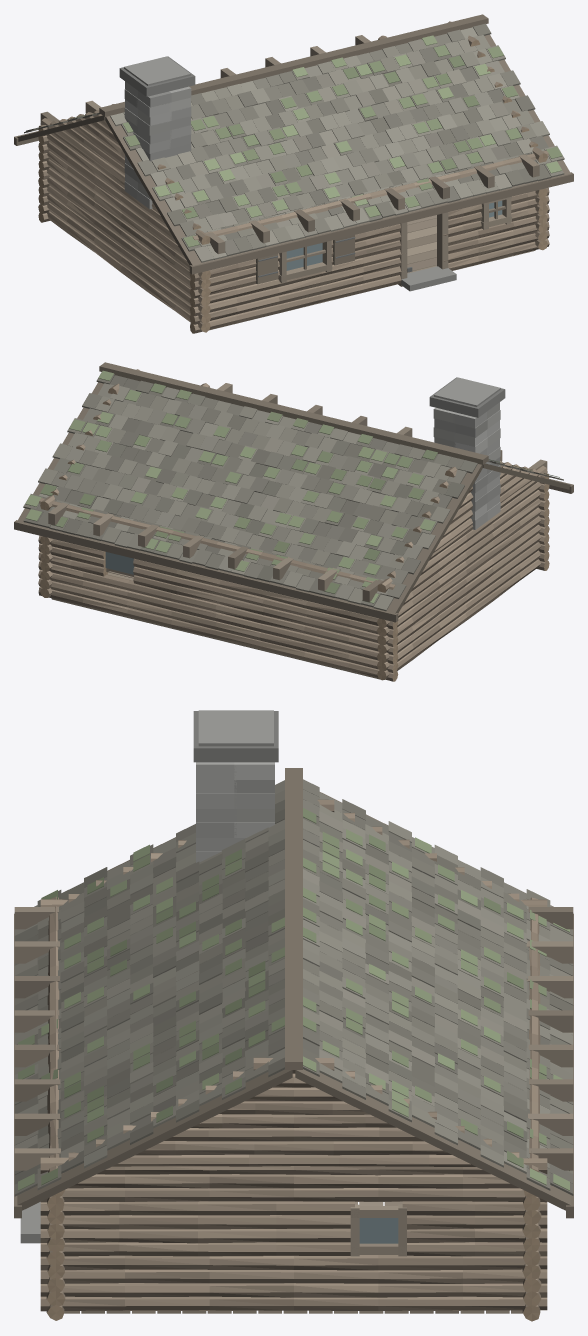
The model's file is nora_shell.glb.
The picture shows the model from 3 angles, top to bottom: view 1: azimuth 30°, elevation 25°; view 2: azimuth 150°, elevation 25°; view 3: azimuth 270°, elevation 25°; orthographic projection. The views are drawn at different scales.
Parts seen in each view (by area): view 1: Shingles, Logs, Planks, Moss, Stone, Endgrain, Glass; view 2: Shingles, Logs, Planks, Moss, Stone, Endgrain, Glass; view 3: Shingles, Logs, Planks, Moss, Stone, Endgrain, Glass.
Boxes of the visible parts, x1,y1,x2,y2 form: Shingles: [24, 23, 564, 262]; Logs: [39, 21, 549, 333]; Planks: [14, 14, 573, 330]; Moss: [67, 35, 562, 247]; Stone: [119, 56, 456, 291]; Endgrain: [38, 40, 548, 333]; Glass: [286, 200, 502, 270]; Shingles: [23, 372, 563, 611]; Logs: [38, 369, 547, 681]; Planks: [14, 362, 573, 679]; Moss: [25, 370, 559, 603]; Stone: [429, 377, 505, 529]; Endgrain: [39, 388, 549, 681]; Glass: [105, 552, 134, 574]; Shingles: [14, 779, 573, 1196]; Logs: [40, 799, 547, 1312]; Planks: [14, 768, 573, 1313]; Moss: [18, 808, 569, 1190]; Stone: [20, 710, 278, 1243]; Endgrain: [46, 1168, 541, 1321]; Glass: [359, 1218, 398, 1243].
Size of the model in its own units: 10.24 by 5.55 by 8.24.
